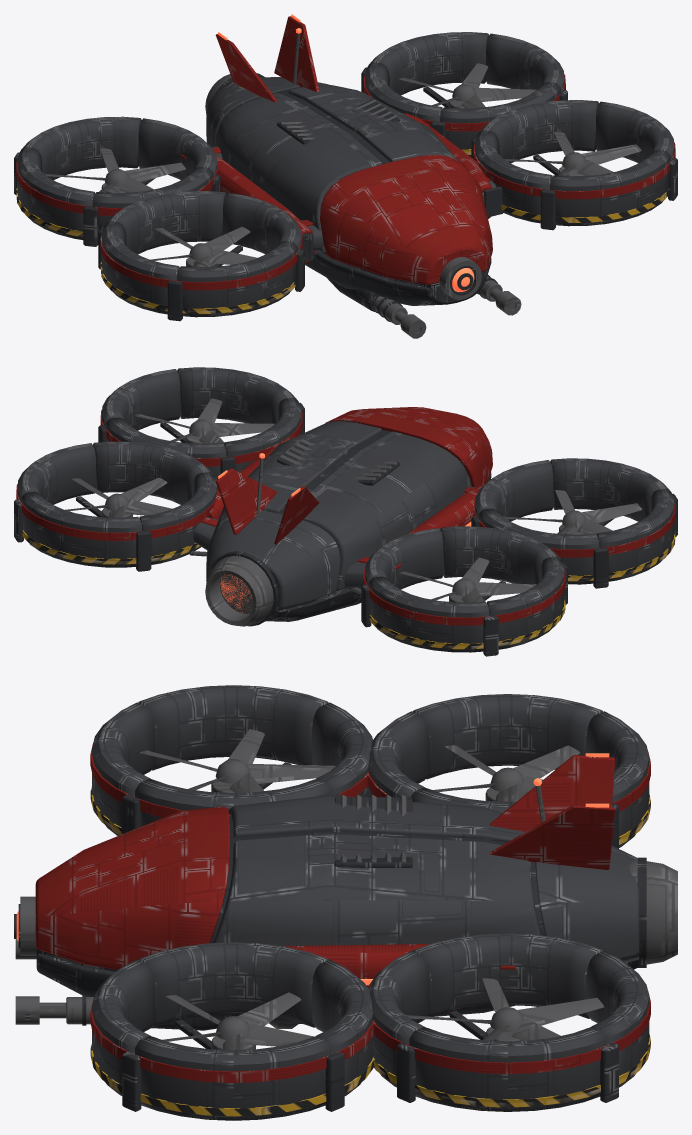
File: drone.glb
The picture shows the model from 3 angles, top to bottom: view 1: azimuth 30°, elevation 25°; view 2: azimuth 150°, elevation 25°; view 3: azimuth 270°, elevation 25°; orthographic projection. The views are drawn at different scales.
Parts seen in each view (by area): view 1: Body, Rotor_3, Rotor_2, Rotor_0, Rotor_1; view 2: Body, Rotor_0, Rotor_3, Rotor_1, Rotor_2, Thruster; view 3: Body, Rotor_1, Rotor_2, Rotor_0, Rotor_3.
Part boxes in pixels (left/top/right/bottom): Body: left=14, top=14, right=677, bottom=338; Rotor_3: left=45, top=148, right=185, bottom=192; Rotor_2: left=399, top=63, right=536, bottom=107; Rotor_0: left=504, top=132, right=641, bottom=175; Rotor_1: left=150, top=227, right=257, bottom=267; Body: left=14, top=367, right=677, bottom=656; Rotor_0: left=135, top=398, right=274, bottom=443; Rotor_3: left=400, top=557, right=536, bottom=602; Rotor_1: left=503, top=490, right=642, bottom=534; Rotor_2: left=65, top=477, right=172, bottom=517; Thruster: left=220, top=574, right=252, bottom=612; Body: left=14, top=685, right=677, bottom=1120; Rotor_1: left=140, top=729, right=335, bottom=792; Rotor_2: left=406, top=978, right=603, bottom=1040; Rotor_0: left=162, top=992, right=313, bottom=1050; Rotor_3: left=433, top=745, right=580, bottom=801.
Size of the model in its own units: 3 by 0.971 by 2.23.
Materials: 6 (5 with a texture image).
